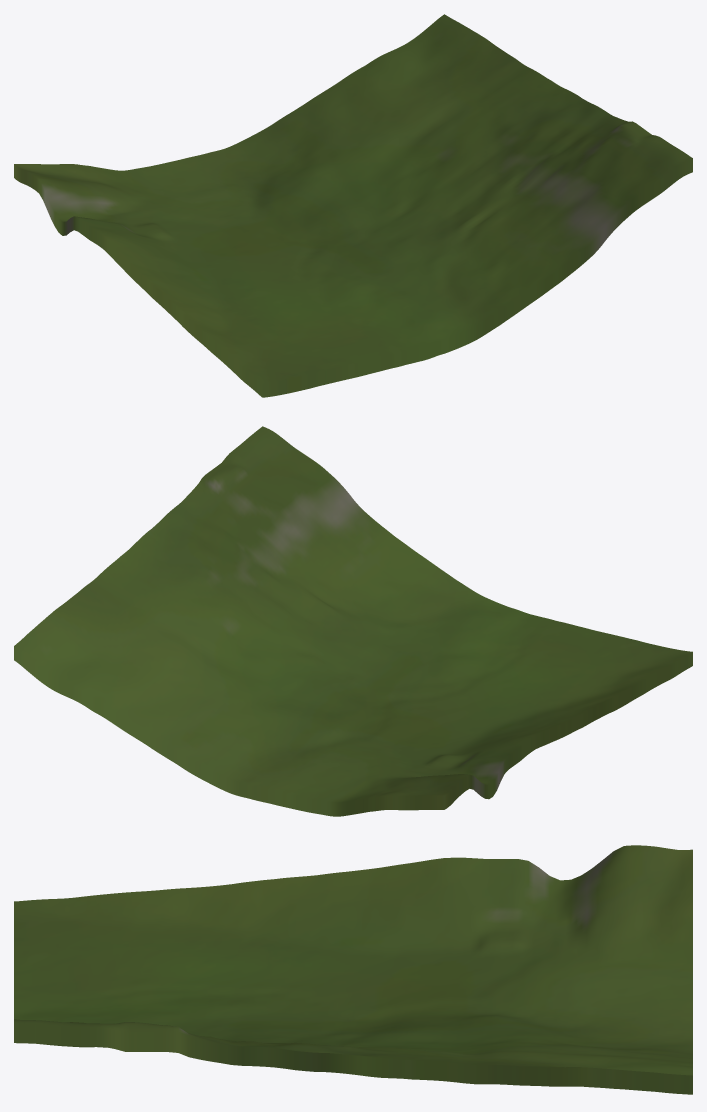
File: terrain_9_-19.glb
The picture shows the model from 3 angles, top to bottom: view 1: azimuth 30°, elevation 25°; view 2: azimuth 150°, elevation 25°; view 3: azimuth 270°, elevation 25°; orthographic projection. The views are drawn at different scales.
Parts seen in each view (by area): view 1: terrain_9_-19; view 2: terrain_9_-19; view 3: terrain_9_-19.
Part boxes in pixels (x1,y1,x2,y2): terrain_9_-19: [14, 14, 692, 397]; terrain_9_-19: [14, 426, 692, 816]; terrain_9_-19: [14, 845, 692, 1094].
Size of the model in its own units: 256 by 77.95 by 256.
